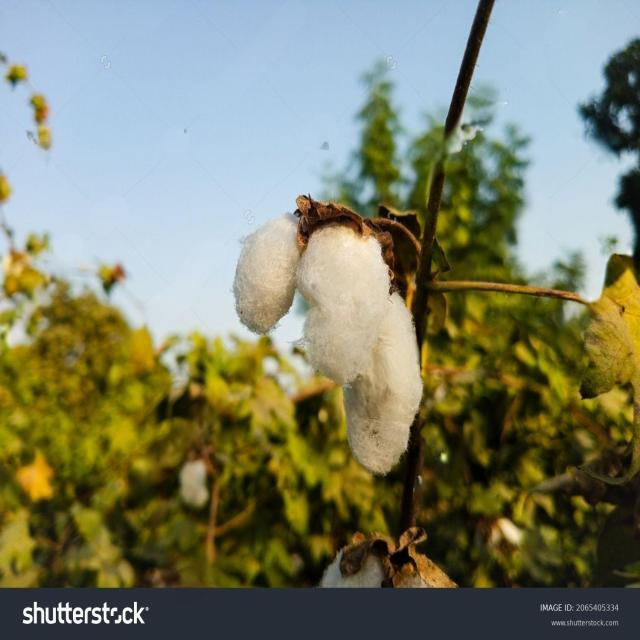Leaf: (214, 181, 445, 493)
